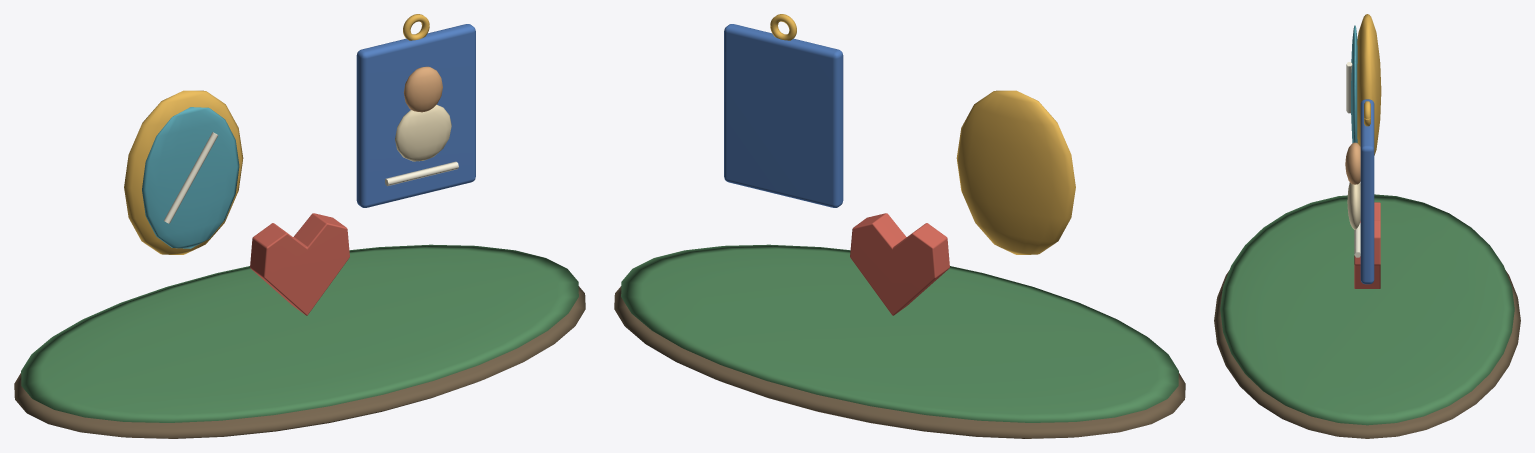
File: complete-first-believe-a-friend.glb
3 renders of one model, left to right at view 1: azimuth 30°, elevation 25°; view 2: azimuth 150°, elevation 25°; view 3: azimuth 270°, elevation 25°, orthographic. The views are drawn at different scales.
Parts seen in each view (by area): view 1: complete-first-believe-a-friend_surface_01, complete-first-believe-a-friend_surface_05, complete-first-believe-a-friend_surface_03, complete-first-believe-a-friend_surface_00, complete-first-believe-a-friend_surface_08, complete-first-believe-a-friend_surface_02, complete-first-believe-a-friend_surface_07, complete-first-believe-a-friend_surface_06, complete-first-believe-a-friend_surface_04; view 2: complete-first-believe-a-friend_surface_01, complete-first-believe-a-friend_surface_05, complete-first-believe-a-friend_surface_02, complete-first-believe-a-friend_surface_00, complete-first-believe-a-friend_surface_08; view 3: complete-first-believe-a-friend_surface_01, complete-first-believe-a-friend_surface_00, complete-first-believe-a-friend_surface_05, complete-first-believe-a-friend_surface_02, complete-first-believe-a-friend_surface_08, complete-first-believe-a-friend_surface_03, complete-first-believe-a-friend_surface_06, complete-first-believe-a-friend_surface_07, complete-first-believe-a-friend_surface_04.
Boxes of the visible parts, x1,y1,x2,y2 form: complete-first-believe-a-friend_surface_01: [21, 244, 578, 422]; complete-first-believe-a-friend_surface_05: [356, 24, 475, 207]; complete-first-believe-a-friend_surface_03: [142, 107, 239, 248]; complete-first-believe-a-friend_surface_00: [14, 286, 585, 438]; complete-first-believe-a-friend_surface_08: [250, 213, 349, 315]; complete-first-believe-a-friend_surface_02: [124, 14, 429, 254]; complete-first-believe-a-friend_surface_07: [395, 104, 451, 161]; complete-first-believe-a-friend_surface_06: [403, 66, 442, 112]; complete-first-believe-a-friend_surface_04: [164, 132, 458, 223]; complete-first-believe-a-friend_surface_01: [621, 244, 1178, 422]; complete-first-believe-a-friend_surface_05: [724, 24, 843, 207]; complete-first-believe-a-friend_surface_02: [770, 14, 1075, 254]; complete-first-believe-a-friend_surface_00: [614, 286, 1185, 438]; complete-first-believe-a-friend_surface_08: [850, 213, 949, 315]; complete-first-believe-a-friend_surface_01: [1220, 194, 1514, 425]; complete-first-believe-a-friend_surface_00: [1214, 270, 1520, 438]; complete-first-believe-a-friend_surface_05: [1360, 99, 1374, 284]; complete-first-believe-a-friend_surface_02: [1357, 14, 1381, 155]; complete-first-believe-a-friend_surface_08: [1354, 202, 1380, 288]; complete-first-believe-a-friend_surface_03: [1351, 25, 1357, 143]; complete-first-believe-a-friend_surface_06: [1345, 142, 1360, 184]; complete-first-believe-a-friend_surface_07: [1347, 182, 1360, 229]; complete-first-believe-a-friend_surface_04: [1346, 62, 1360, 257].
Size of the model in its own units: 4.56 by 2.54 by 2.5.
